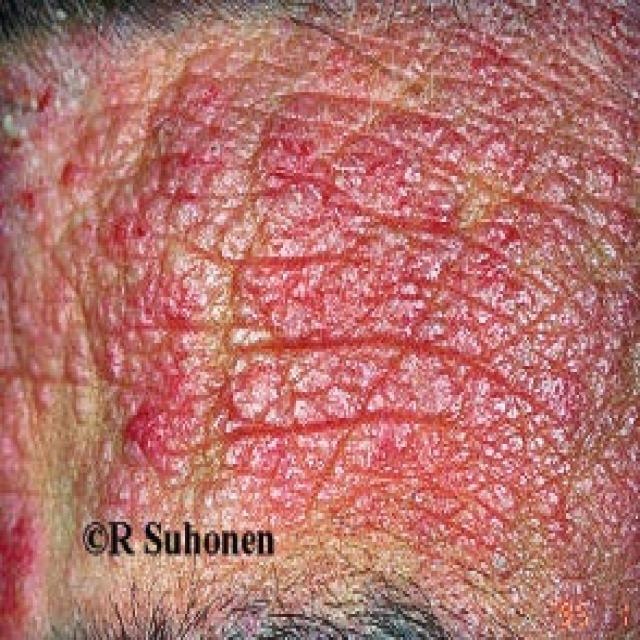Eczema: (90, 47, 640, 519)
